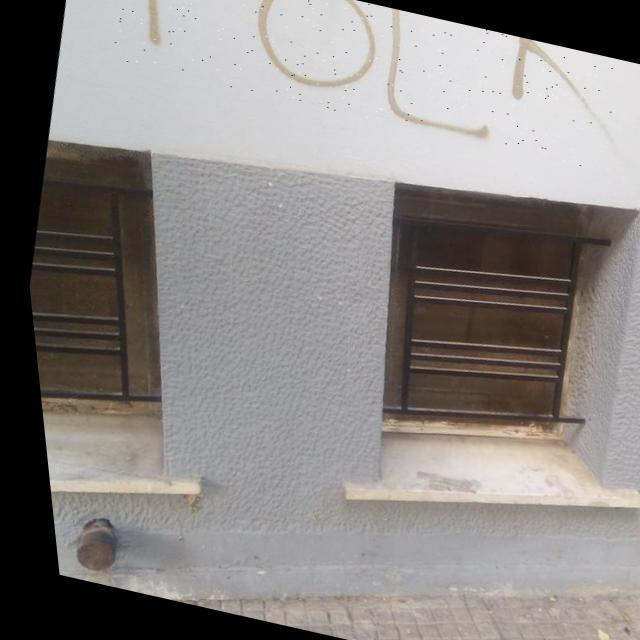-: (105, 0, 628, 171)
